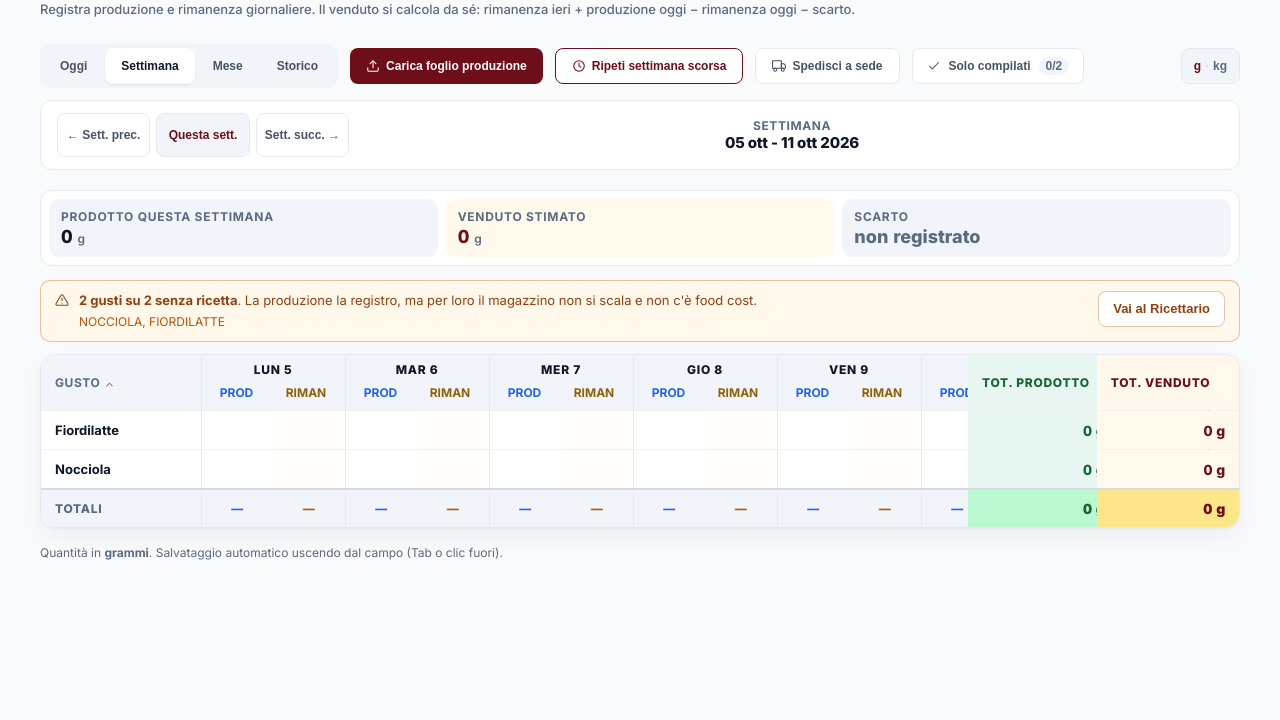
Scenario: la domanda la fa Foodos, e Annulla vuol dire annulla › spedizione oltre il disponibile: se annullo, non parte niente
Click the button "Spedisci a sede".
click(828, 66)  # box [756, 48, 900, 84]
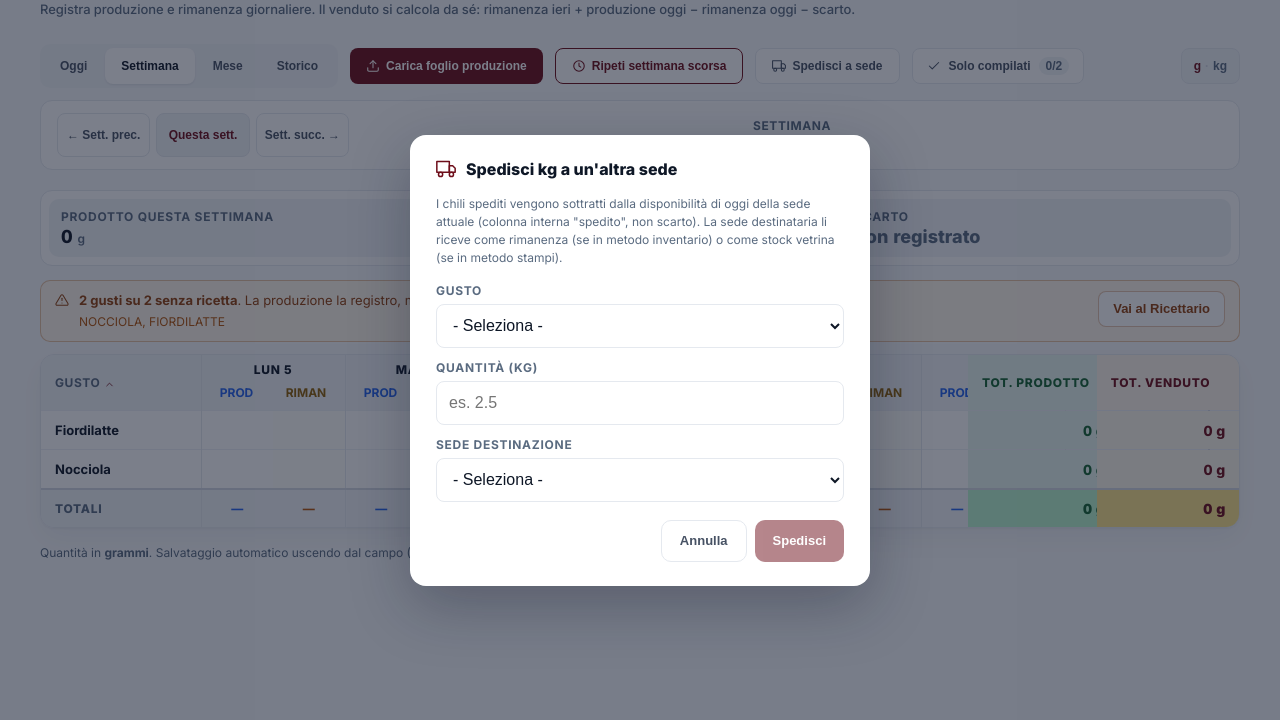
Select "Nocciola — nessuna disponibilità oggi" in the 1st dropdown at (640, 326), box [436, 304, 844, 348]
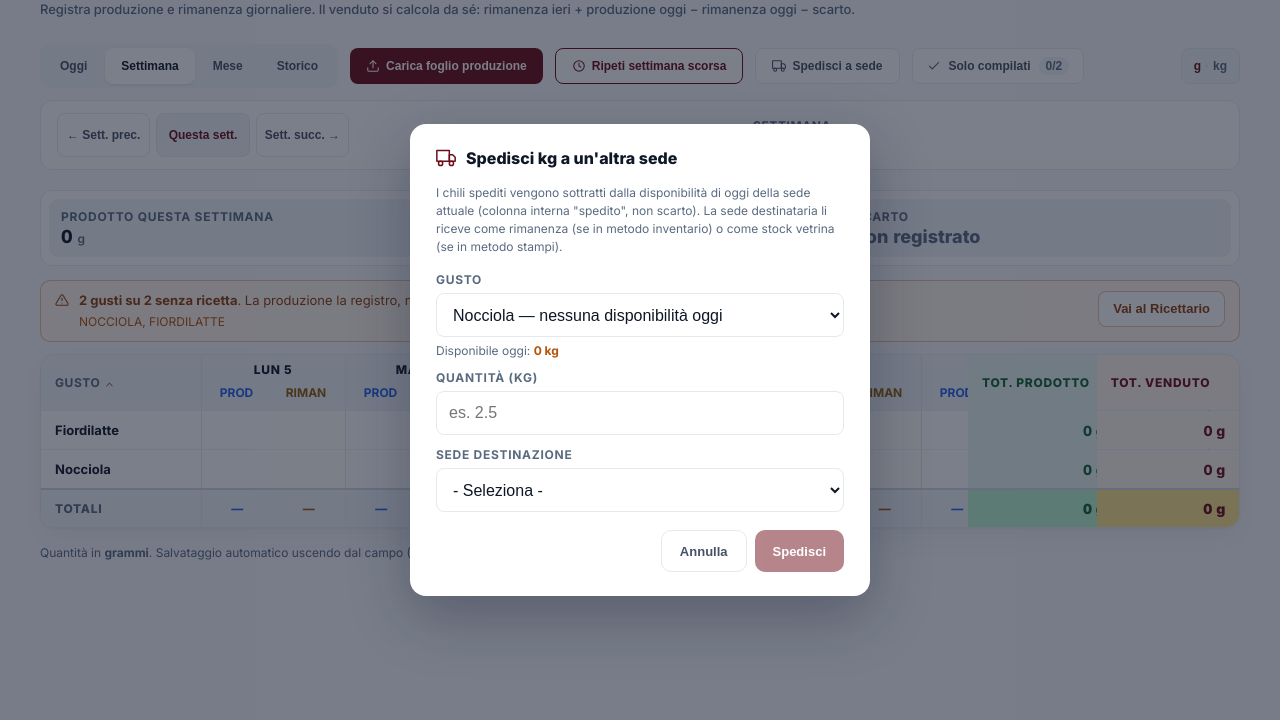
Type "2.5" into the number field with placeholder "es. 2.5".
click(640, 413); type("2.5")  # box [436, 391, 844, 435]
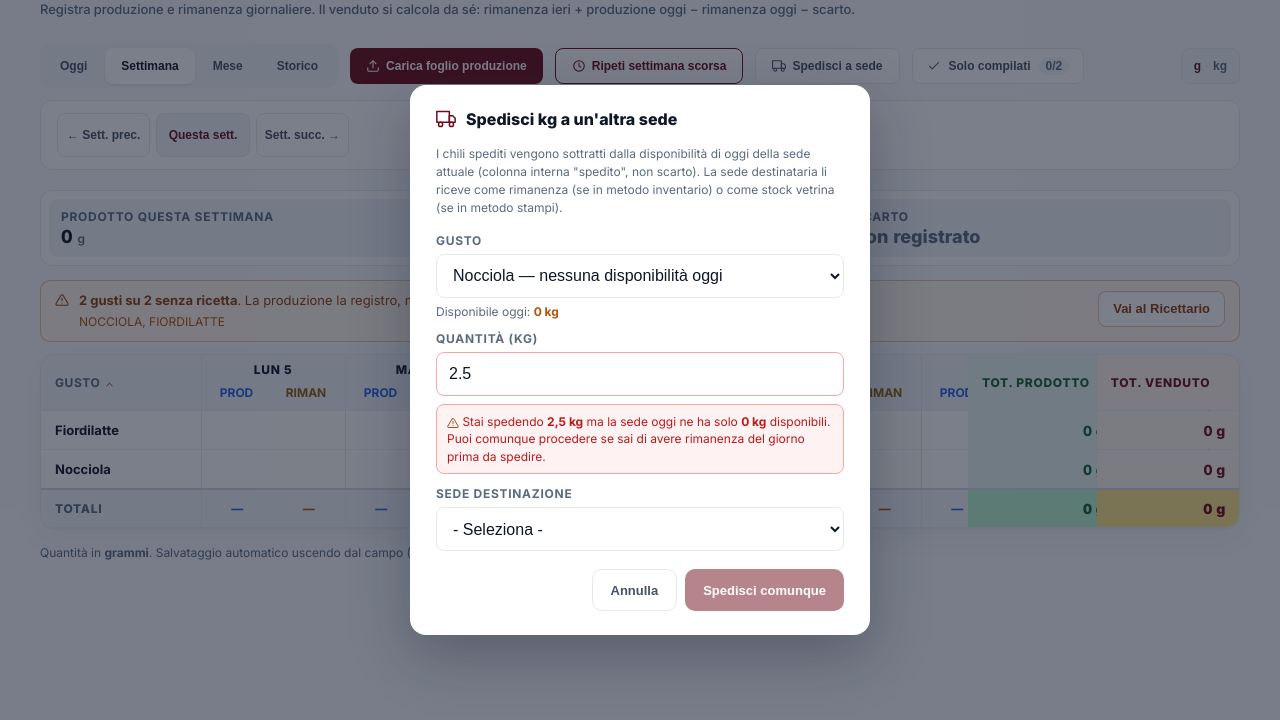
Select "Negozio (stock vetrina)" in the dropdown below "Sede destinazione" at (640, 529), box [436, 507, 844, 551]
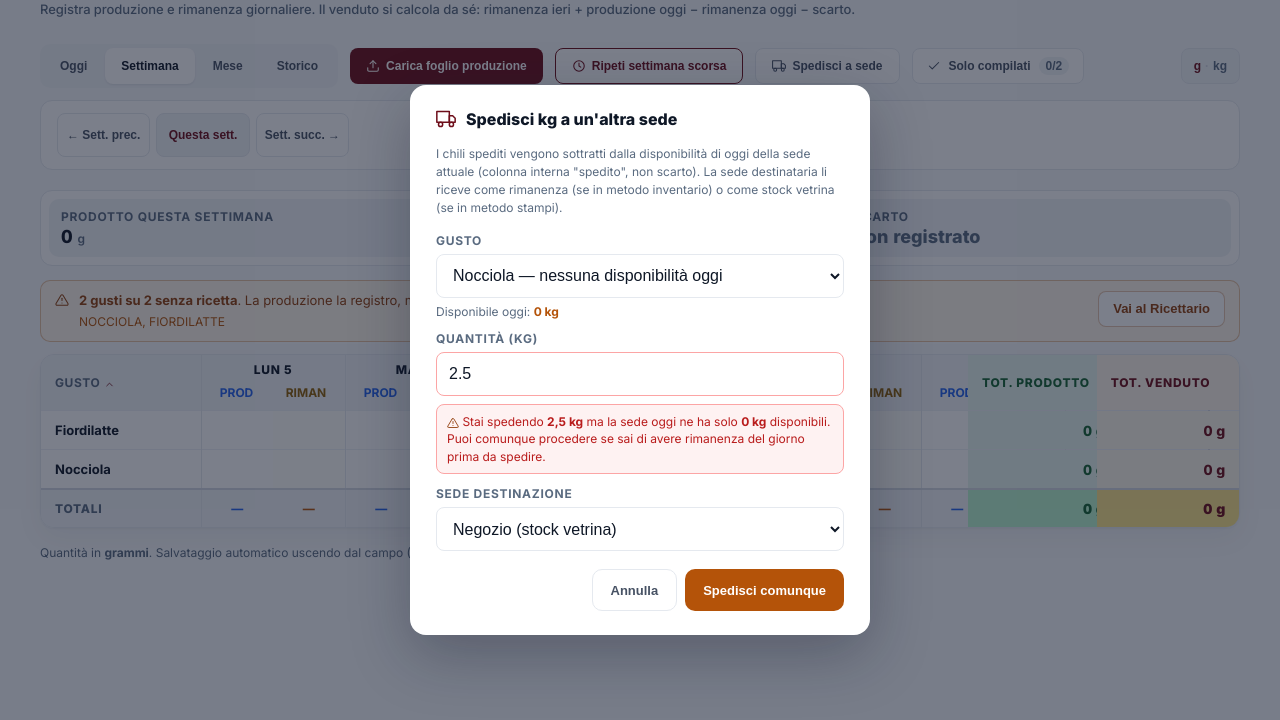
Click the button "Spedisci comunque".
click(765, 590)  # box [685, 569, 844, 611]
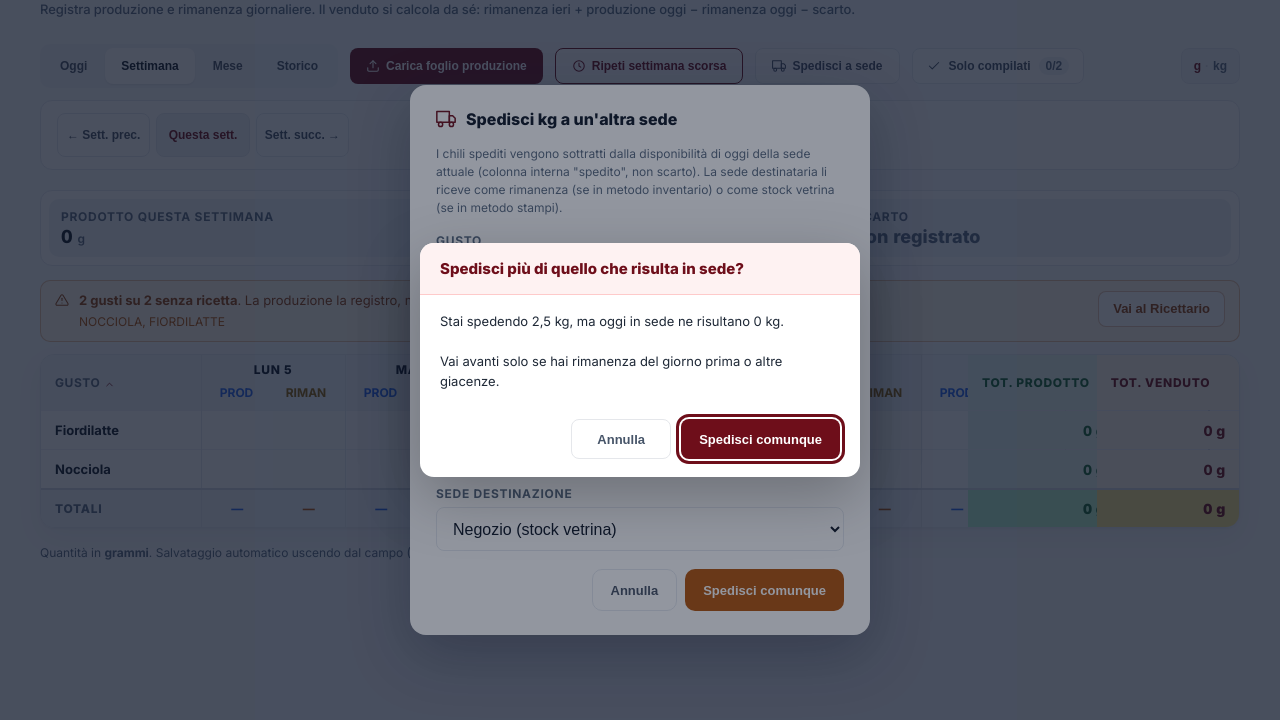
Click the button "Annulla".
click(621, 439)  # box [571, 419, 671, 459]
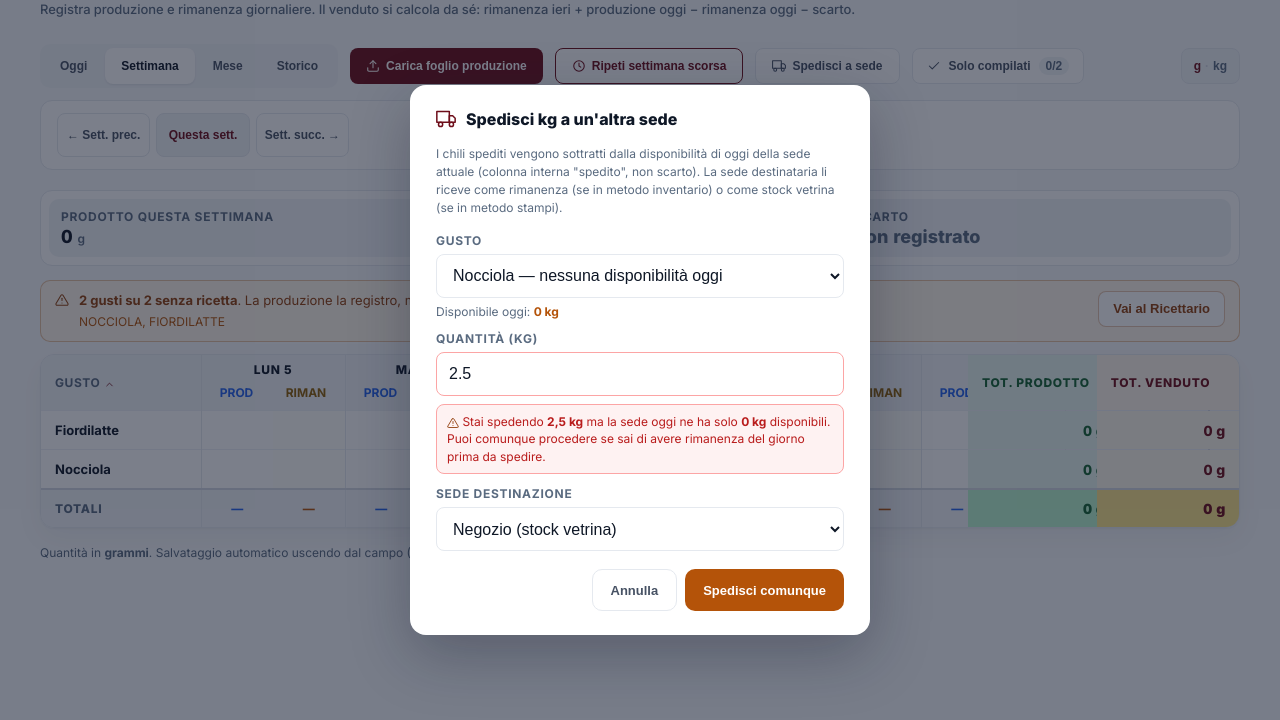
Result: the text "Spedisci più di quello che risulta in sede?" is gone
